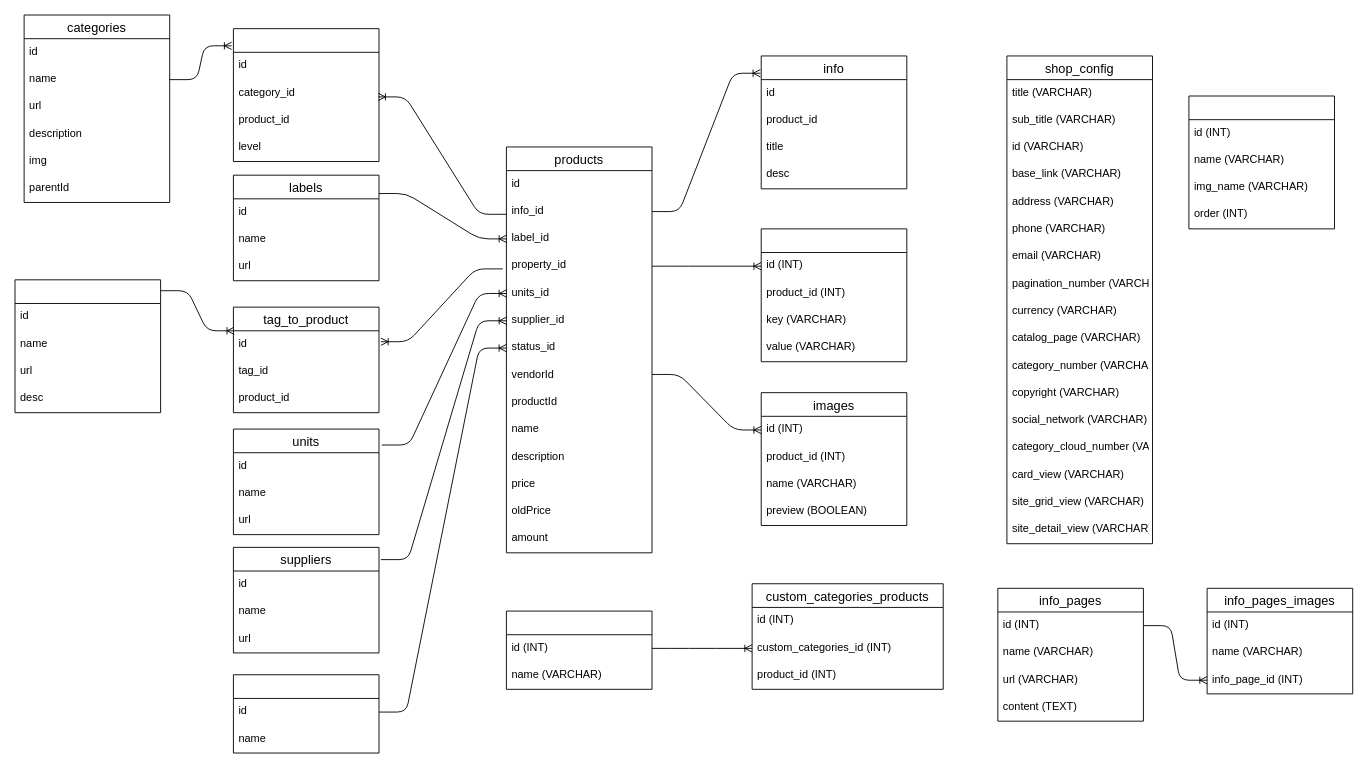
This 1368x768 diagram has some shape labels left out. Here are the shapes that lost their labels. From the top down, the box of each, then its label:
(233, 28, 379, 162): category_to_product
(1188, 95, 1335, 229): slider
(760, 228, 907, 362): properties
(14, 279, 161, 413): tags
(506, 610, 652, 689): custom_categories
(233, 674, 379, 753): statuses
